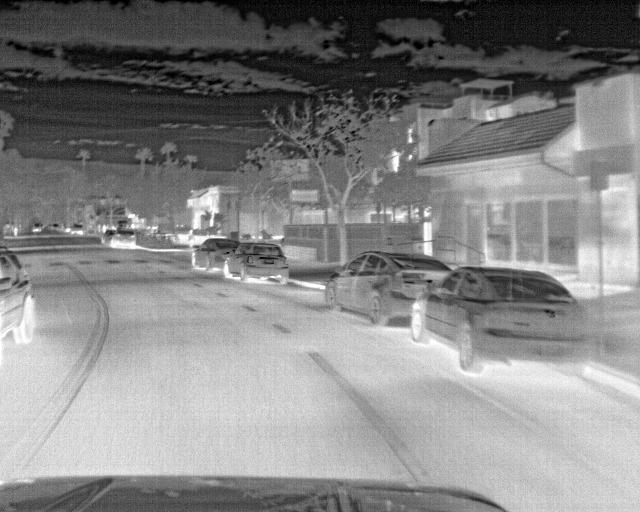car: (409, 266, 589, 382), (321, 250, 449, 332), (0, 248, 38, 346), (223, 241, 288, 289), (189, 236, 240, 271), (108, 226, 137, 247), (69, 222, 85, 236), (30, 222, 44, 234)
